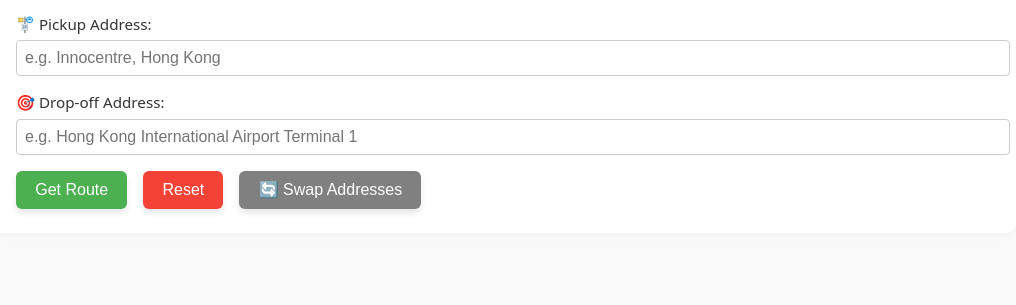
Test case: AddressForm › displays error message when required fields are missing
This screenshot has width=1016, height=305.
Step 1. Click the button "Get Route" → (72, 190), box x1=16 y1=171 x2=127 y2=209
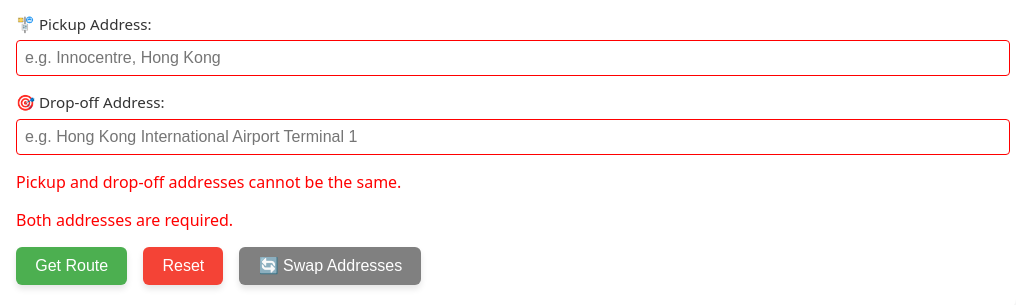
Expected: the text "Both addresses are required." is shown, x1=16 y1=209 x2=233 y2=231
